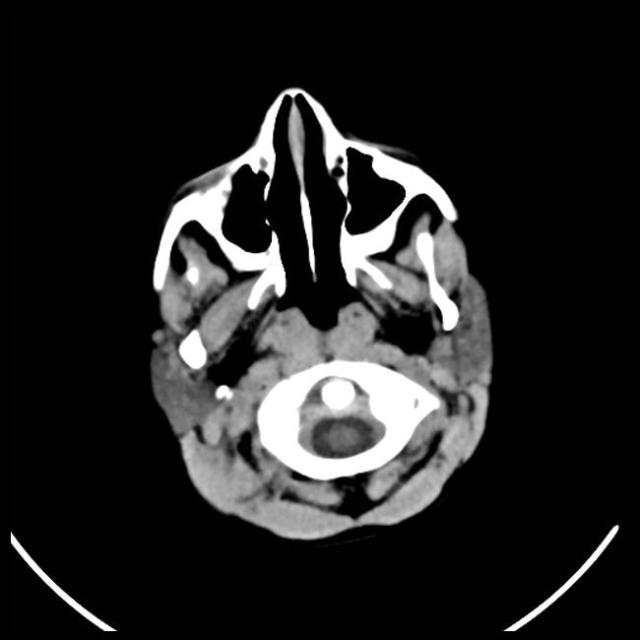lesion: (143, 82, 500, 546)
